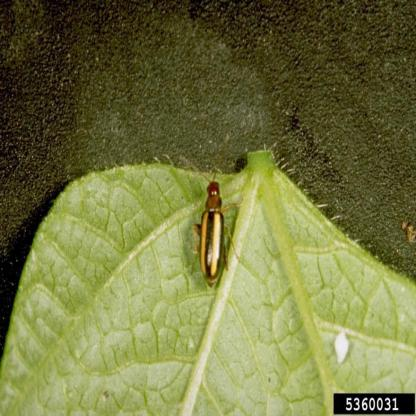beetle: (188, 163, 233, 287)
